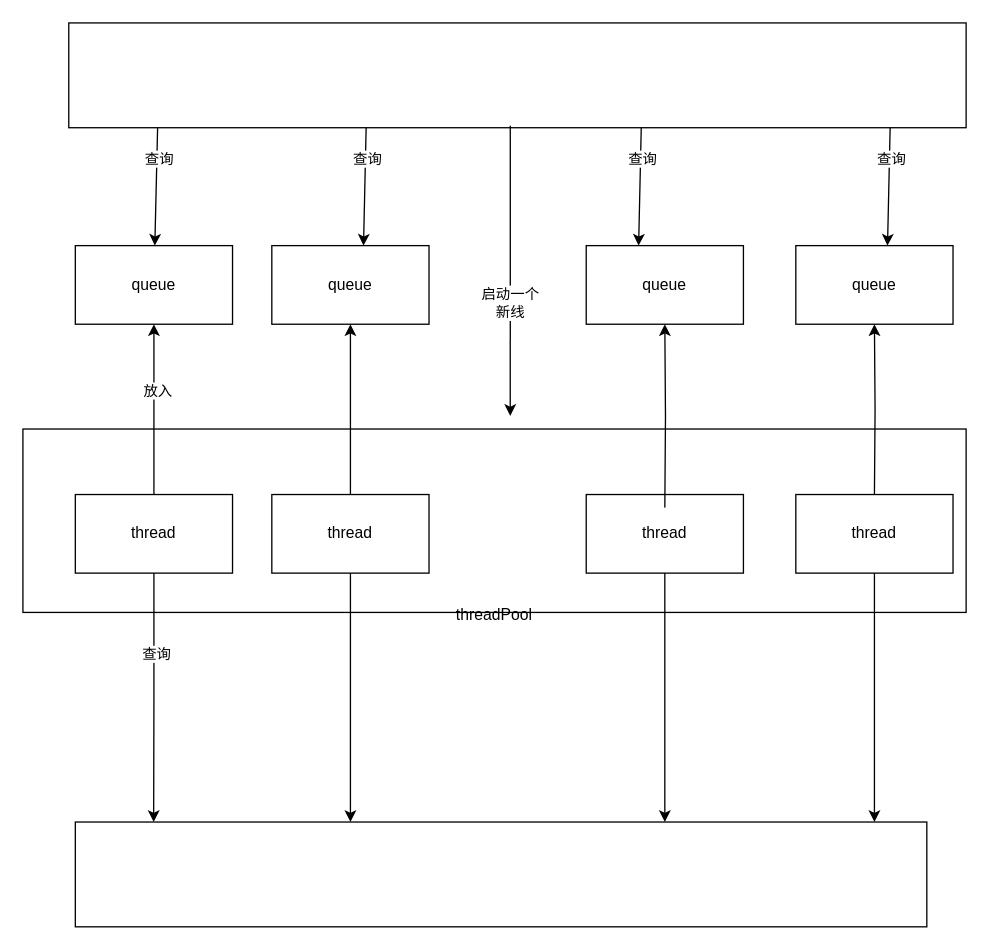
The diagram is 989 pixels wide and 950 high, and some of its shapes have lost their labels. Here are the shapes that lost their labels. From the top down, the centre of each, then its label:
the point at 516,75: web
the point at 500,874: es
